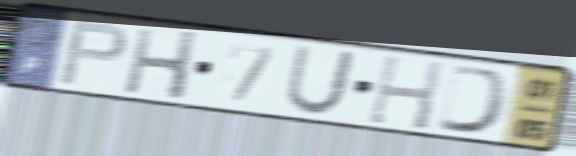7: (224, 40, 277, 104)
D: (433, 62, 514, 138)
H: (364, 52, 448, 133), (120, 25, 204, 104)
P: (55, 19, 130, 88)
U: (281, 44, 360, 118)
